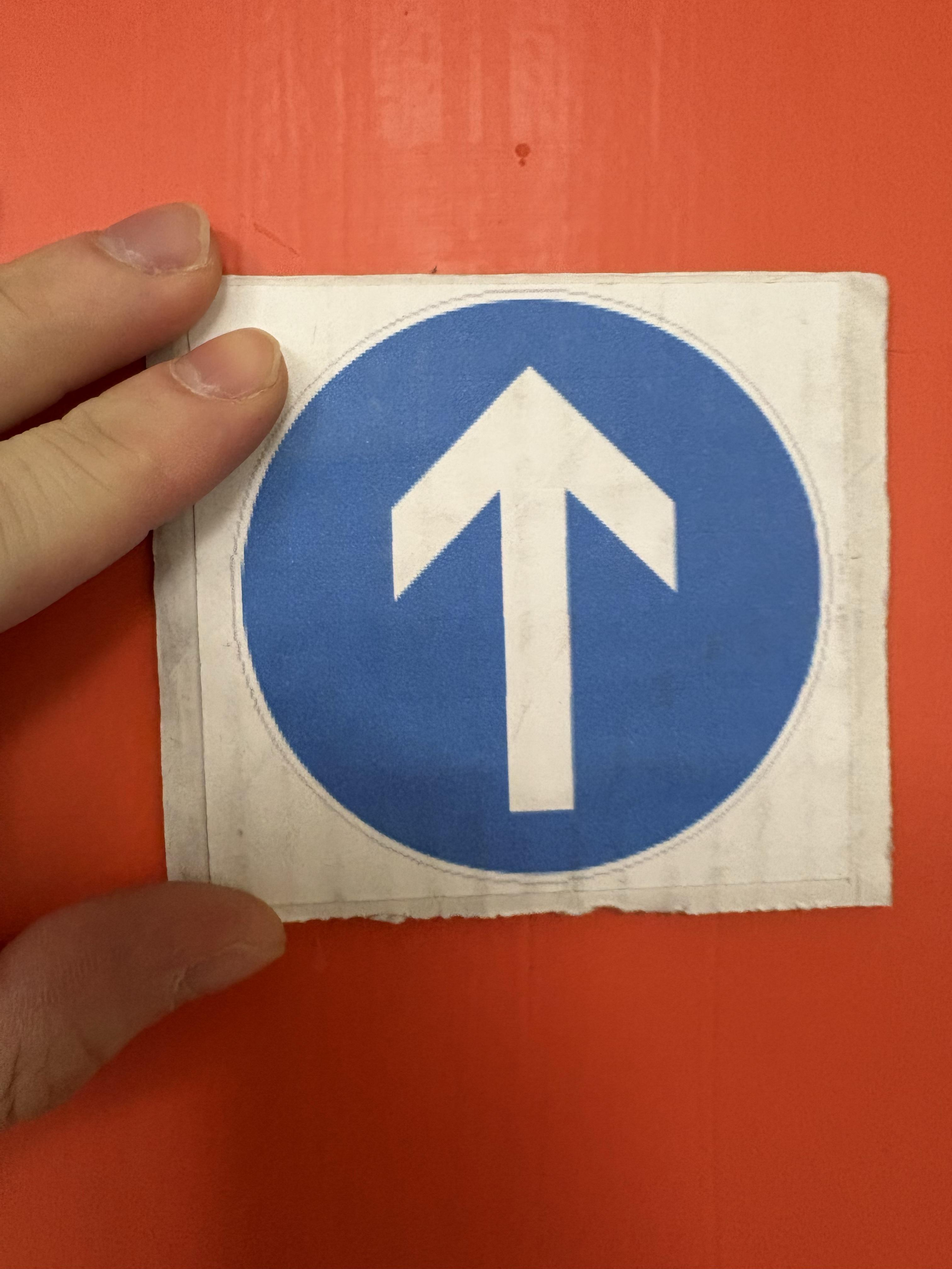Proceed Forward: (109, 359, 673, 1231)
